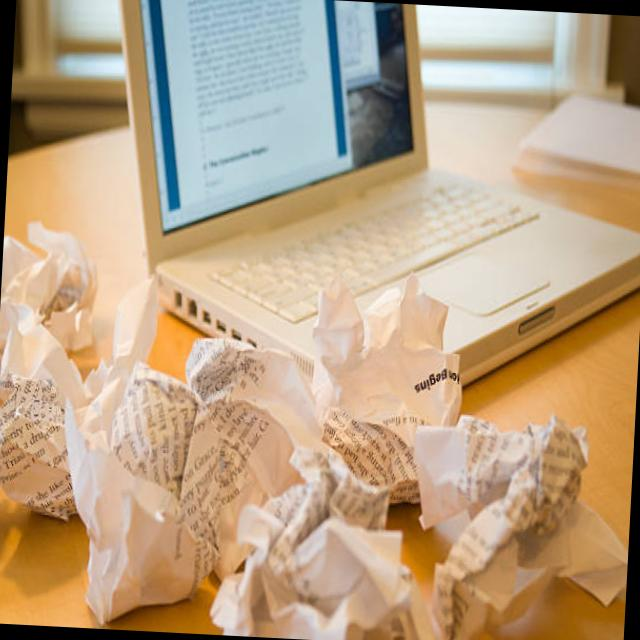electronic: (207, 441, 455, 640), (51, 394, 207, 631), (306, 266, 469, 432)
